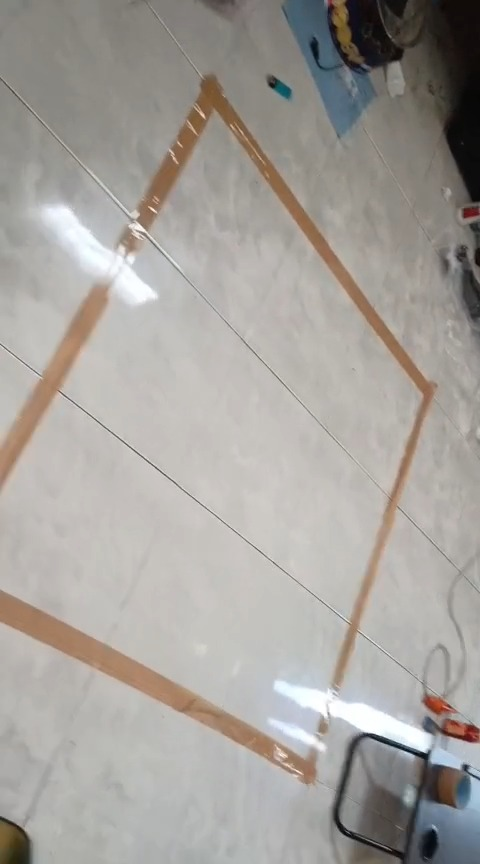floor marking: (0, 76, 434, 682), (1, 590, 315, 784), (304, 614, 358, 773)
